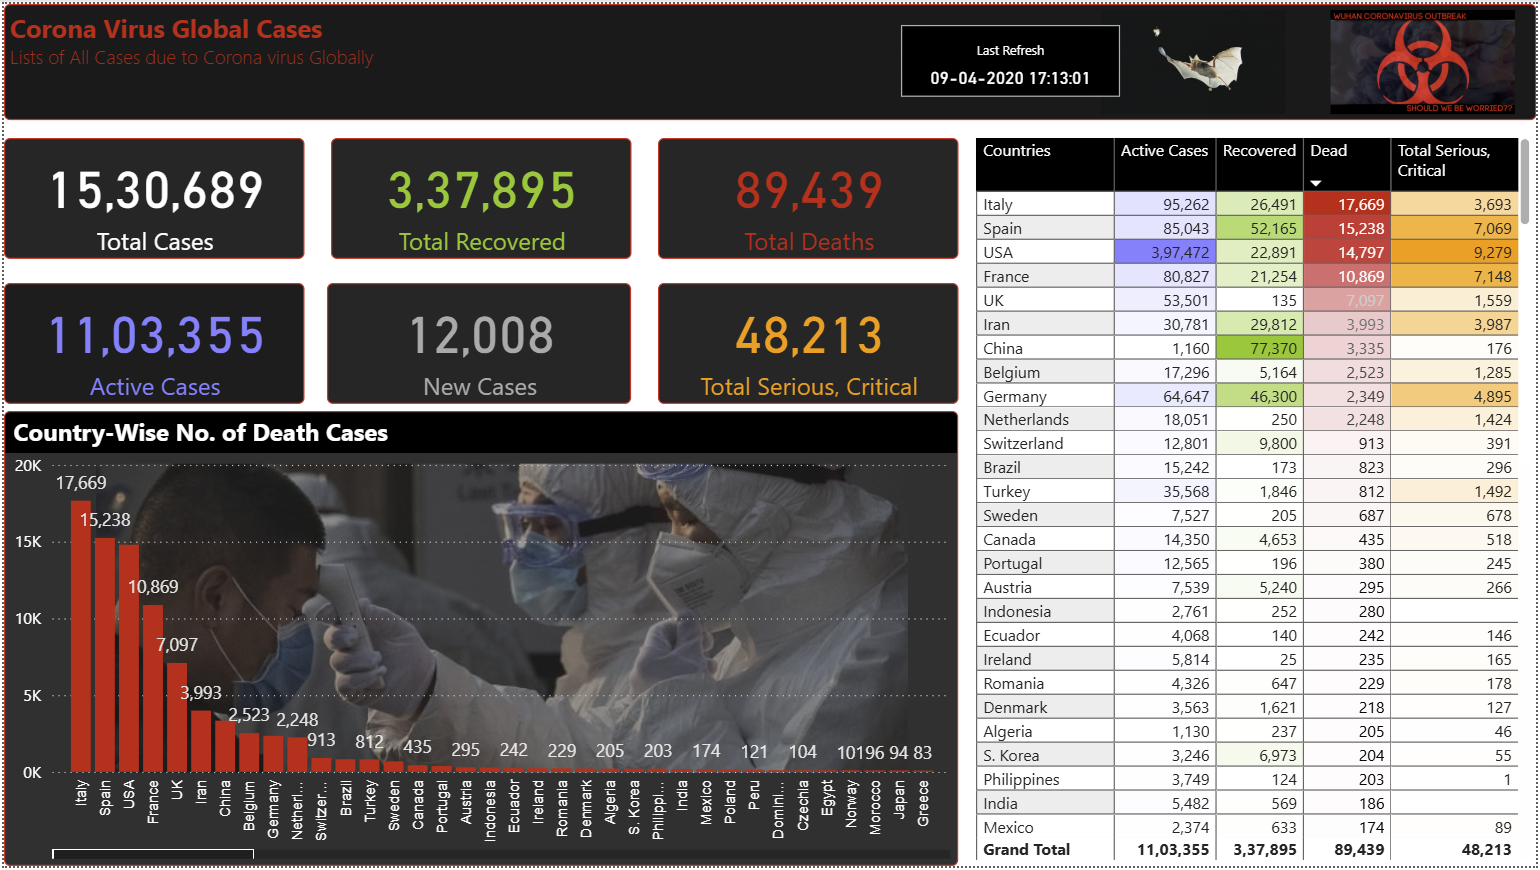

Layout of this report page (visuals, bound fields, positions):
{"tool":"powerbi","page":{"name":"Overview of Coronavirus","canvas":[1280,720],"ordinal":1},"visuals":[{"type":"columnChart","title":"Country-Wise No. of Death Cases","fields":{"Category":["CoronaData.Country, Other"],"Y":["Sum(Coronavirus Data.Total Deaths)"]},"box":[0,340.1,796.6,380.4],"z":0},{"type":"card","fields":{"Values":["Sum(CoronaData.Active Cases)"]},"box":[0,232.7,250.6,101.4],"z":1000},{"type":"card","fields":{"Values":["Sum(CoronaData.Total Recovered)"]},"box":[273,111.9,250.6,101.4],"z":2000},{"type":"card","fields":{"Values":["Sum(CoronaData.Total Deaths)"]},"box":[546,111.9,250.6,101.4],"z":3000},{"type":"basicShape","box":[0,0,1280,96.7],"z":4000},{"type":"pivotTable","fields":{"Rows":["CoronaData.Country, Other"],"Values":["Sum(CoronaData.Active Cases)","CoronaData.Recovered","CoronaData.Dead","Sum(CoronaData.Serious, Critical)"]},"box":[806.7,107,472.8,613],"z":5000},{"type":"card","fields":{"Values":["Sum(CoronaData.New Cases)"]},"box":[270,232.7,253.6,101.4],"z":6000},{"type":"card","fields":{"Values":["Sum(CoronaData.Serious, Critical)"]},"box":[546,232.7,250.6,101.4],"z":7000},{"type":"card","fields":{"Values":["Sum(Coronavirus Data.Total Cases)"]},"box":[0,111.9,250.6,101.4],"z":8000},{"type":"textbox","box":[0,0,497.1,96.7],"z":9000},{"type":"image","box":[1089.8,0,190.2,96.8],"z":10000},{"type":"image","box":[896.2,0,193.7,96.8],"z":11000},{"type":"cardVisual","fields":{"Data":["Max(Refresh.Refresh)"]},"box":[744.2,12.6,193,70.9],"z":12000}]}

Visuals, with their boxes in screenshot pixels (x1, y1, x2, y2), scaled from the page's 1280x720 canvas onto the 1540x870 screenshot:
"Country-Wise No. of Death Cases" columnChart: box(0, 411, 958, 869)
card - Sum(CoronaData.Active Cases): box(0, 281, 302, 404)
card - Sum(CoronaData.Total Recovered): box(328, 135, 630, 258)
card - Sum(CoronaData.Total Deaths): box(657, 135, 958, 258)
basicShape: box(0, 0, 1539, 117)
pivotTable - CoronaData.Country, Other x Sum(CoronaData.Active Cases): box(971, 129, 1539, 869)
card - Sum(CoronaData.New Cases): box(325, 281, 630, 404)
card - Sum(CoronaData.Serious, Critical): box(657, 281, 958, 404)
card - Sum(Coronavirus Data.Total Cases): box(0, 135, 302, 258)
textbox: box(0, 0, 598, 117)
image: box(1311, 0, 1539, 117)
image: box(1078, 0, 1311, 117)
cardVisual - Max(Refresh.Refresh): box(895, 15, 1128, 101)
